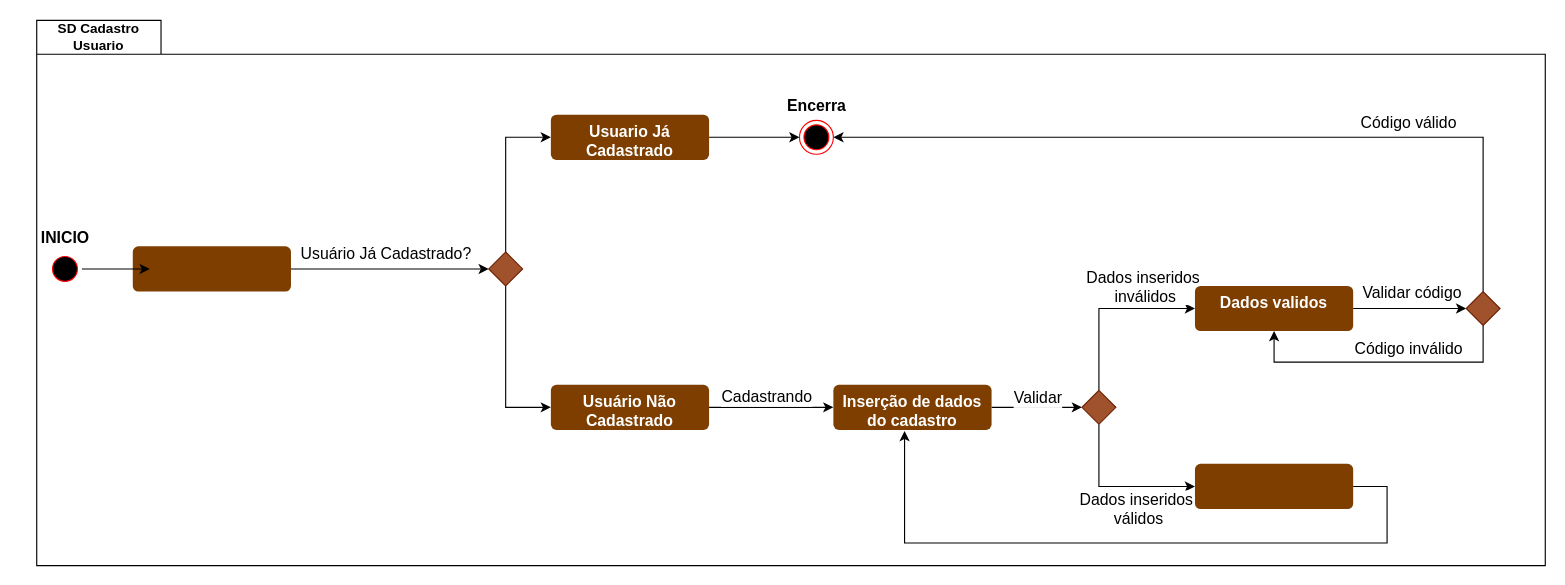
This 1565x585 diagram has some shape labels left out. Each missing label, with the box of its shape:
Cadastro de Usuario: (132, 246, 290, 291)
Dados invalidos: (1194, 463, 1353, 508)
